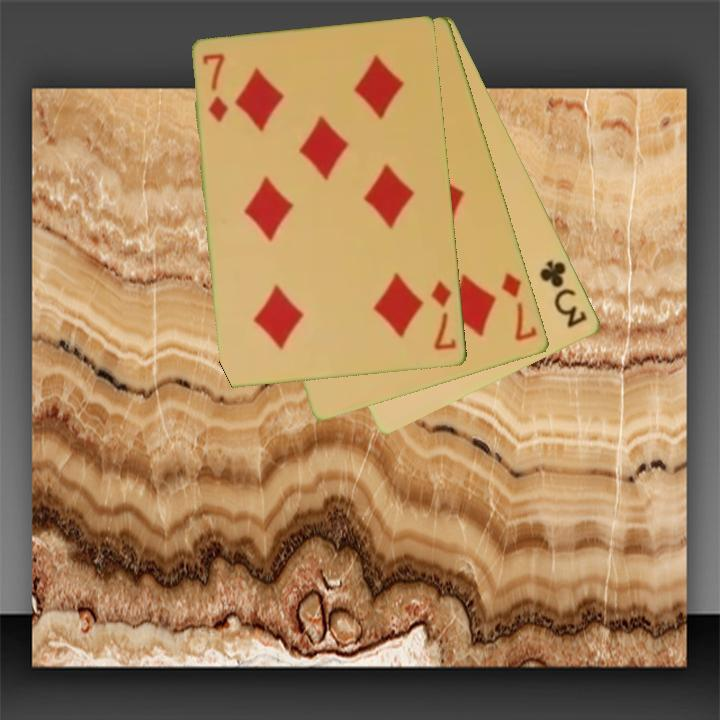3c: (536, 256, 591, 332)
7d: (498, 269, 541, 345), (427, 278, 460, 354), (199, 50, 232, 125)
